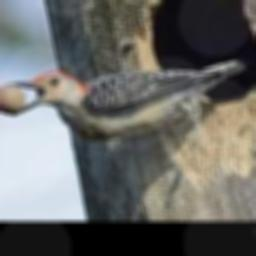Woodpecker: (4, 59, 246, 141)
